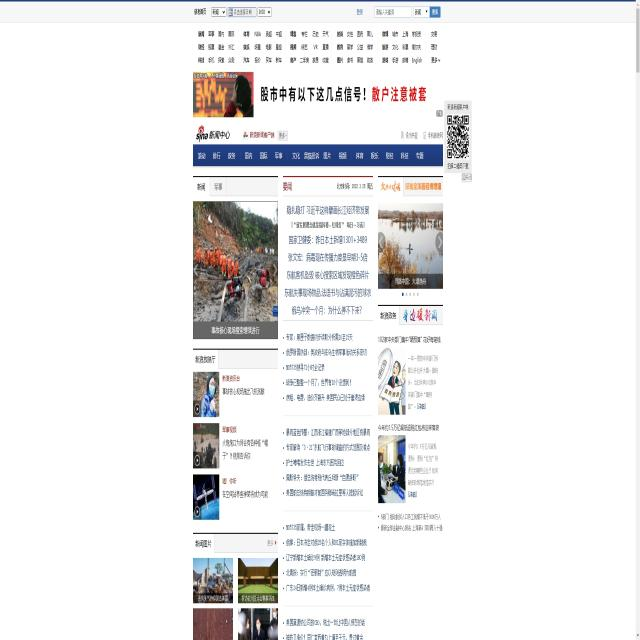tab-bar: (192, 141, 440, 169), (192, 180, 226, 196)
